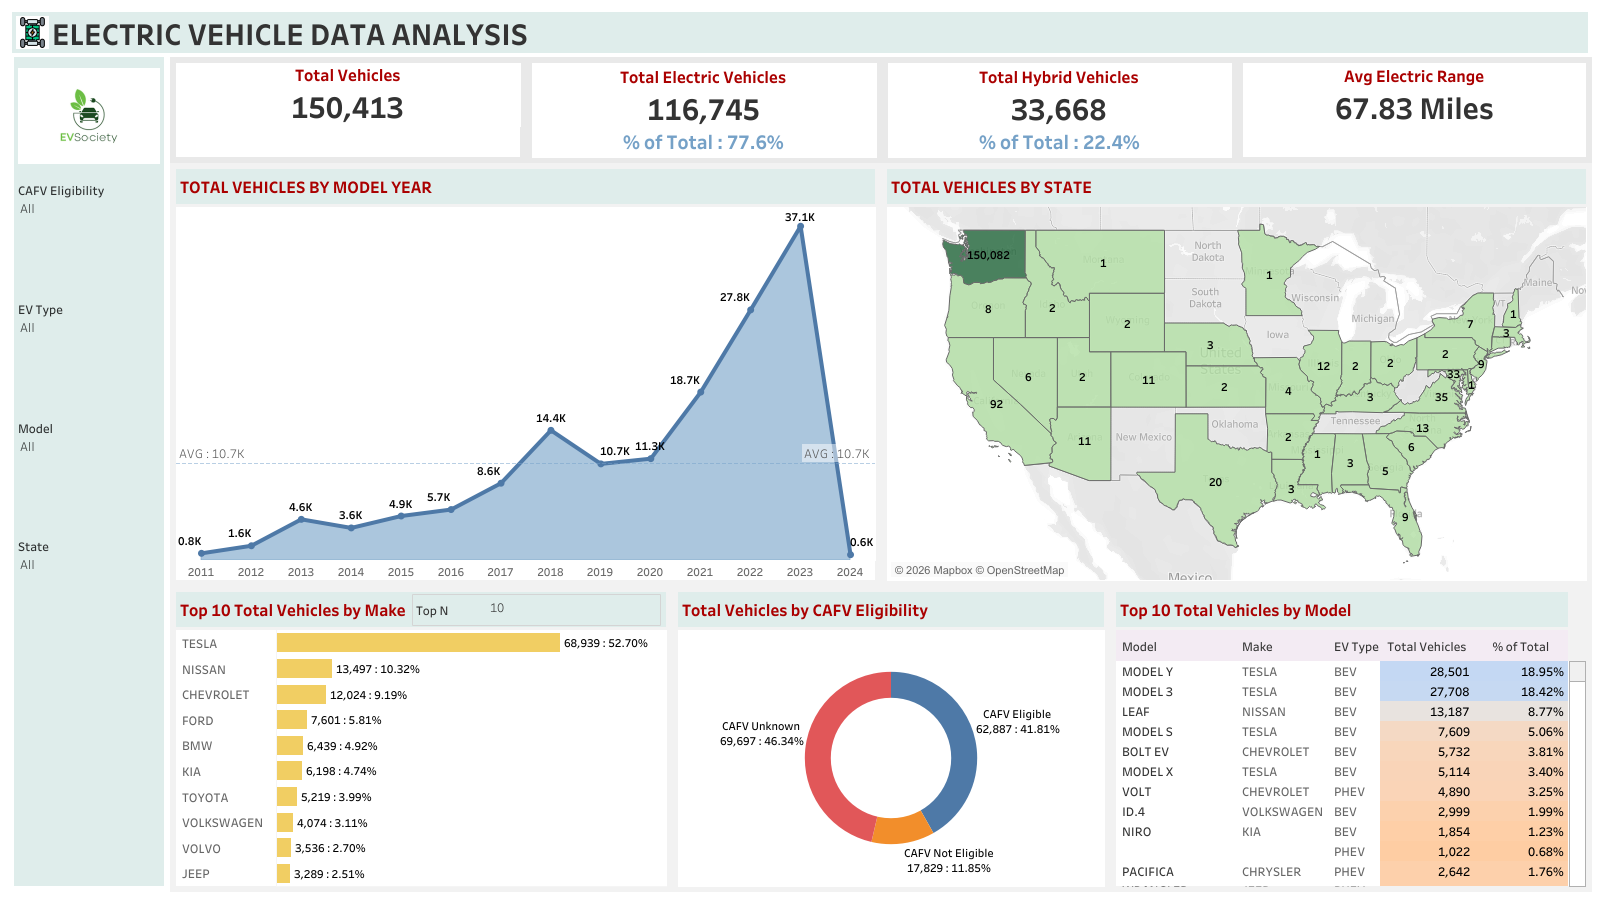

The dashboard page shown, as its layout file describes it:
{"tool":"tableau","page":{"name":"Dashboard 1","canvas":[1600,900],"ordinal":0},"visuals":[{"type":"title","box":[8,8,1584,48]},{"type":"image","param":"Image/download (1).png","box":[16,16,39,33]},{"type":"image","param":"Image/download.png","box":[14,56,150,119]},{"type":"worksheet","title":"Total Vehicles","mark":"Automatic","box":[170,56,356,106]},{"type":"worksheet","title":"Total BEV Vehicles","mark":"Automatic","box":[526,56,356,106]},{"type":"worksheet","title":"Total PHEV Vehicles","mark":"Automatic","box":[882,56,355,106]},{"type":"worksheet","title":"Avg Electric Range","mark":"Automatic","box":[1237,56,355,106]},{"type":"worksheet","title":"Total Vehicles by Model Year","mark":"Area","rows":["Calculation_1657283731120128","Calculation_1657283731120128"],"cols":["Model Year"],"box":[170,162,711,423.6]},{"type":"worksheet","title":"Total Vehicles by State","mark":"Multipolygon","box":[881,162,711,423.6]},{"type":"filter","title":"Total Vehicles by Model Year","param":"[federated.0yhsbwa03wo6r31gzgj8y0kmmkak].[none:Clean Alternative Fuel Vehicle (C","box":[14,175,150,119]},{"type":"filter","title":"Total Vehicles by Model Year","param":"[federated.0yhsbwa03wo6r31gzgj8y0kmmkak].[none:Electric Vehicle Type:nk]","box":[14,294,150,119]},{"type":"filter","title":"Total Vehicles by Model Year","param":"[federated.0yhsbwa03wo6r31gzgj8y0kmmkak].[none:Model:nk]","box":[14,413,150,119]},{"type":"filter","title":"Total Vehicles by Model Year","param":"[federated.0yhsbwa03wo6r31gzgj8y0kmmkak].[none:State:nk]","box":[14,532,150,118]},{"type":"worksheet","title":"Top 10 Total Vehicles by Make","mark":"Automatic","rows":["Make"],"cols":["Calculation_1657283731120128"],"box":[170,585.6,502,306.4]},{"type":"worksheet","title":"Total Vehicles by CAFV Eligibility","mark":"Pie","rows":["Calculation_1657283749564423","Calculation_1657283749564423"],"box":[672,585.6,438,306.4]},{"type":"worksheet","title":"Top 10 Total Vehicles by Model","mark":"Square","rows":["Model","Make","Electric Vehicle Type"],"box":[1110,585.6,482,306.4]},{"type":"parameter","param":"[Parameters].[Parameter 1]","box":[412,594,249,32]},{"type":"blank","box":[14,650,150,118]},{"type":"blank","box":[14,768,150,118]}]}

Visuals, with their boxes in screenshot pixels (x1, y1, x2, y2), scaled from the page's 1600x900 canvas onto the 1599x899 screenshot:
title: {"left": 8, "top": 8, "right": 1591, "bottom": 56}
image: {"left": 16, "top": 16, "right": 55, "bottom": 49}
image: {"left": 14, "top": 56, "right": 164, "bottom": 175}
"Total Vehicles" worksheet: {"left": 170, "top": 56, "right": 526, "bottom": 162}
"Total BEV Vehicles" worksheet: {"left": 526, "top": 56, "right": 881, "bottom": 162}
"Total PHEV Vehicles" worksheet: {"left": 881, "top": 56, "right": 1236, "bottom": 162}
"Avg Electric Range" worksheet: {"left": 1236, "top": 56, "right": 1591, "bottom": 162}
"Total Vehicles by Model Year" worksheet (Area marks): {"left": 170, "top": 162, "right": 880, "bottom": 585}
"Total Vehicles by State" worksheet (Multipolygon marks): {"left": 880, "top": 162, "right": 1591, "bottom": 585}
"Total Vehicles by Model Year" filter: {"left": 14, "top": 175, "right": 164, "bottom": 294}
"Total Vehicles by Model Year" filter: {"left": 14, "top": 294, "right": 164, "bottom": 413}
"Total Vehicles by Model Year" filter: {"left": 14, "top": 413, "right": 164, "bottom": 531}
"Total Vehicles by Model Year" filter: {"left": 14, "top": 531, "right": 164, "bottom": 649}
"Top 10 Total Vehicles by Make" worksheet: {"left": 170, "top": 585, "right": 672, "bottom": 891}
"Total Vehicles by CAFV Eligibility" worksheet (Pie marks): {"left": 672, "top": 585, "right": 1109, "bottom": 891}
"Top 10 Total Vehicles by Model" worksheet (Square marks): {"left": 1109, "top": 585, "right": 1591, "bottom": 891}
parameter: {"left": 412, "top": 593, "right": 661, "bottom": 625}
blank: {"left": 14, "top": 649, "right": 164, "bottom": 767}
blank: {"left": 14, "top": 767, "right": 164, "bottom": 885}
